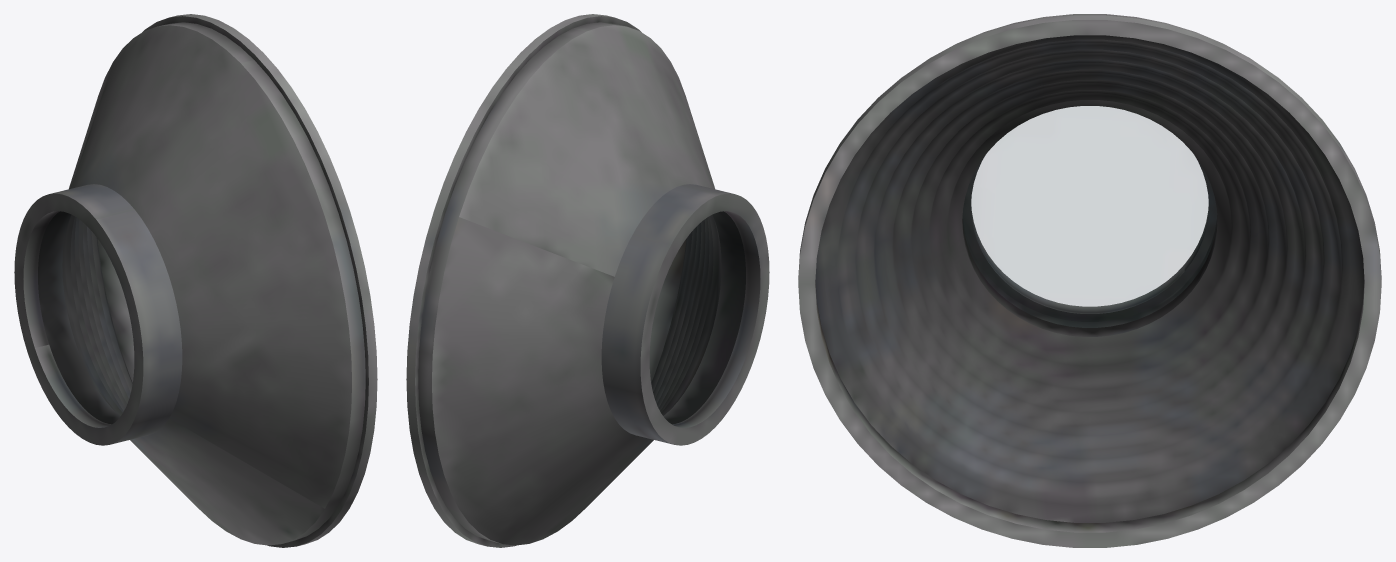
File: SM_WinMetal02.gltf
3 renders of one model, left to right at view 1: azimuth 30°, elevation 25°; view 2: azimuth 150°, elevation 25°; view 3: azimuth 270°, elevation 25°, orthographic. The views are drawn at different scales.
Visible parts, largest first — view 1: SM_WinMetal02; view 2: SM_WinMetal02; view 3: SM_WinMetal02.
Boxes of the visible parts, box(x1,y1,x2,y2) form: SM_WinMetal02: box(14, 14, 377, 547); SM_WinMetal02: box(406, 14, 769, 547); SM_WinMetal02: box(798, 14, 1381, 547).
Size of the model in its own units: 0.5138 by 1.49 by 1.49.
Materials: 2 (2 with a texture image).
